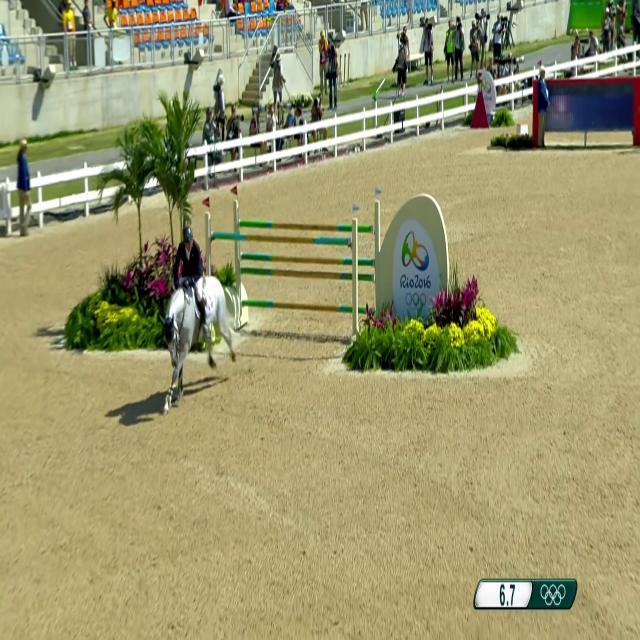Horse Running: (162, 232, 242, 442)
